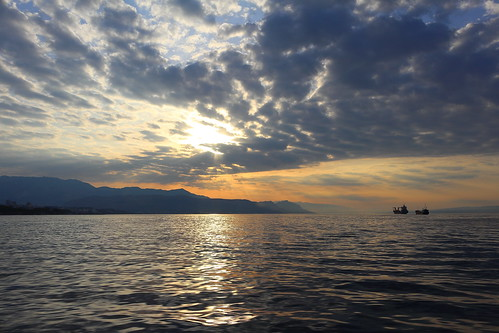sea: (1, 216, 494, 333)
sky: (1, 1, 491, 199)
